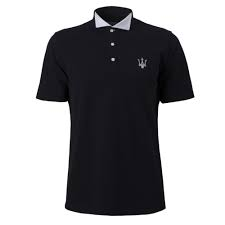S_polo shirt: (38, 11, 198, 213)
